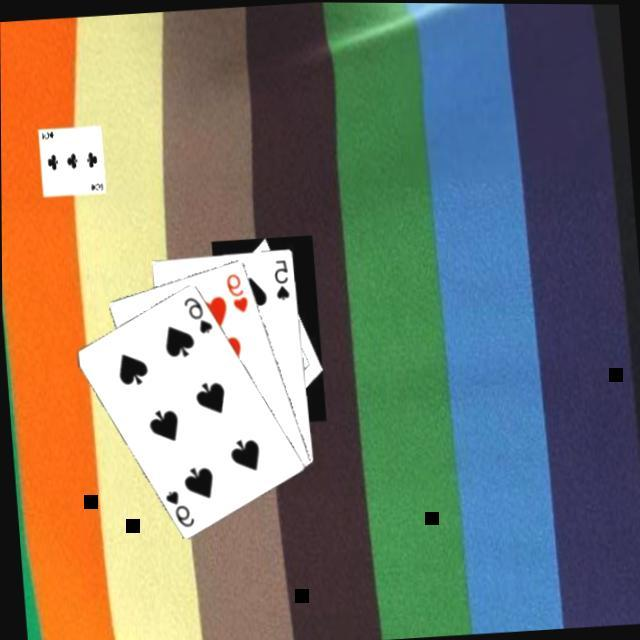5S: (267, 254, 290, 301)
6S: (158, 484, 195, 529), (177, 291, 212, 336)
9H: (220, 267, 249, 315)
